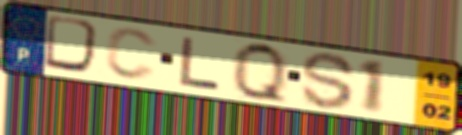1: (355, 58, 388, 115)
C: (103, 26, 161, 83)
D: (40, 12, 107, 77)
L: (177, 35, 224, 92)
Q: (230, 39, 290, 108)
S: (300, 50, 359, 112)
